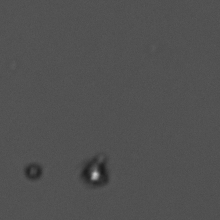Dead Cell: (24, 161, 43, 181)
Living Cell: (84, 156, 112, 190)
